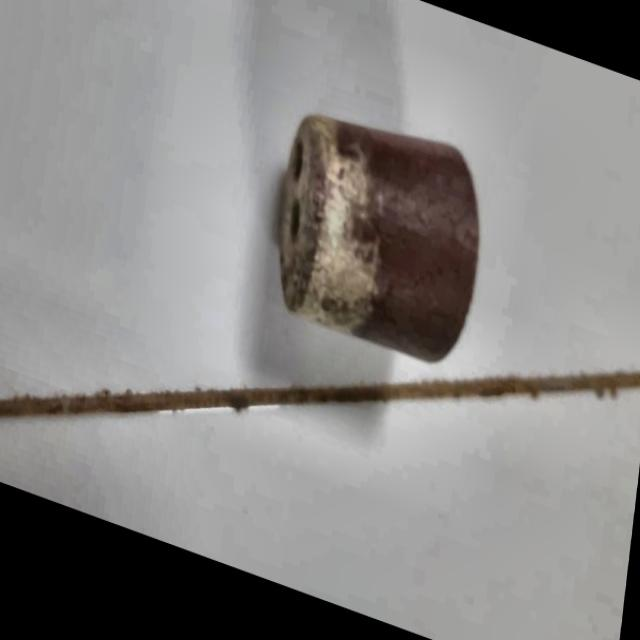Stopper: (264, 85, 492, 385)
